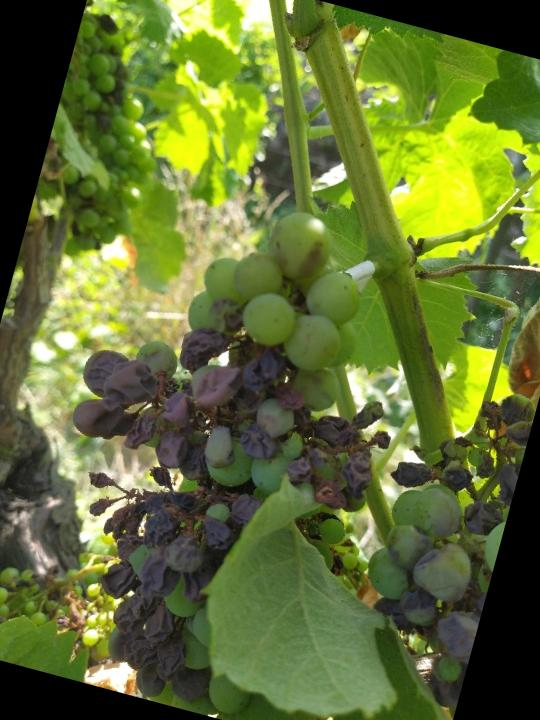grape: (1, 161, 446, 720), (28, 9, 187, 263)
